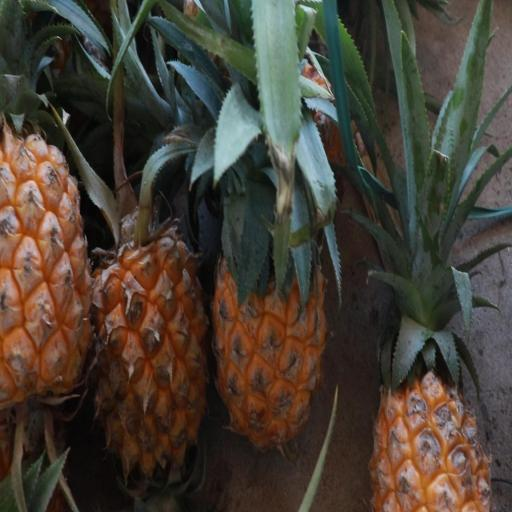Pineapple - v8 v1: (364, 139, 494, 512), (87, 173, 216, 490), (210, 134, 336, 458), (0, 98, 97, 418)
